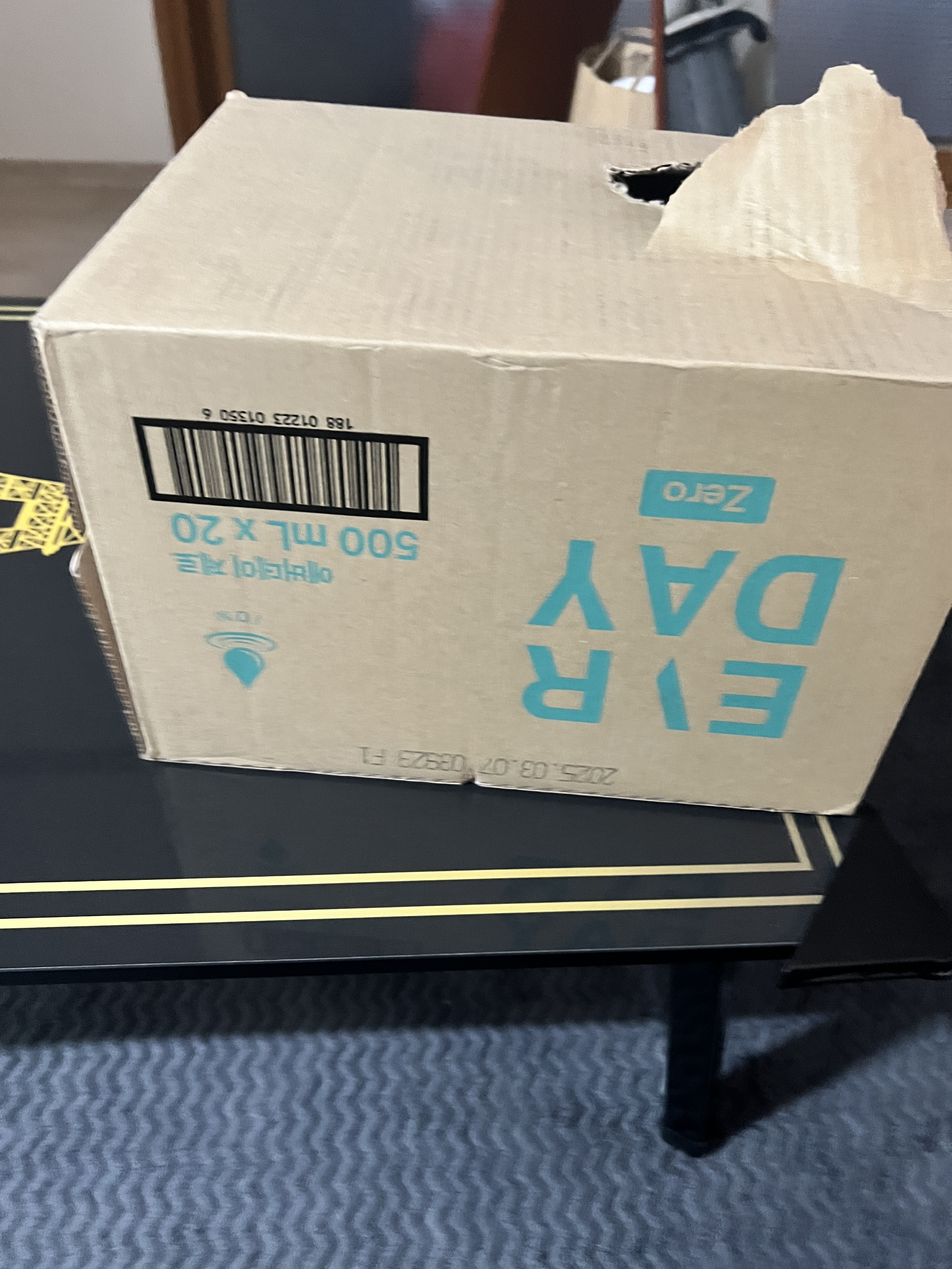damaged package: (557, 35, 950, 322)
